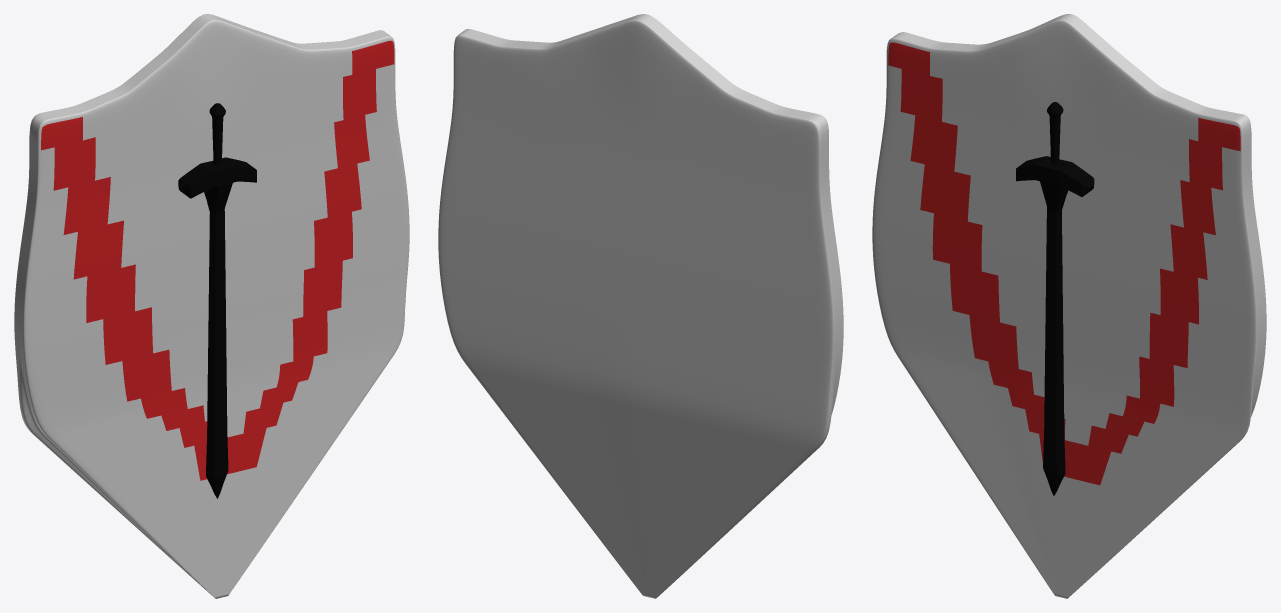
Rendered from escut_final_espada.fbx.
3 renders of one model, left to right at view 1: azimuth 30°, elevation 25°; view 2: azimuth 150°, elevation 25°; view 3: azimuth 330°, elevation 25°, orthographic. The views are drawn at different scales.
Visible parts, largest first — view 1: espada; view 2: espada; view 3: espada.
Part boxes in pixels (x1,y1,x2,y2): espada: (14, 14, 409, 598); espada: (438, 14, 843, 598); espada: (872, 14, 1266, 598).
Bounding box in the file's own units: 35.26 × 50.07 × 3.66.
